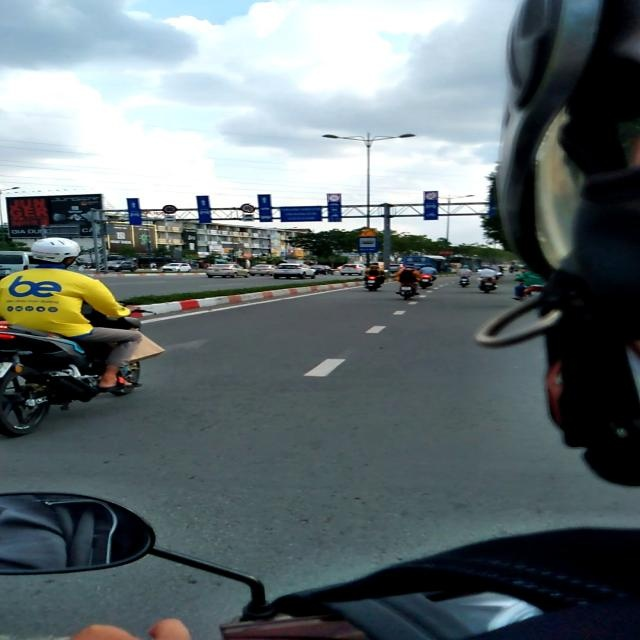bien_cam: (358, 237, 377, 252), (240, 203, 255, 213), (162, 205, 178, 214), (359, 228, 377, 236), (424, 192, 437, 200), (328, 194, 340, 202)
